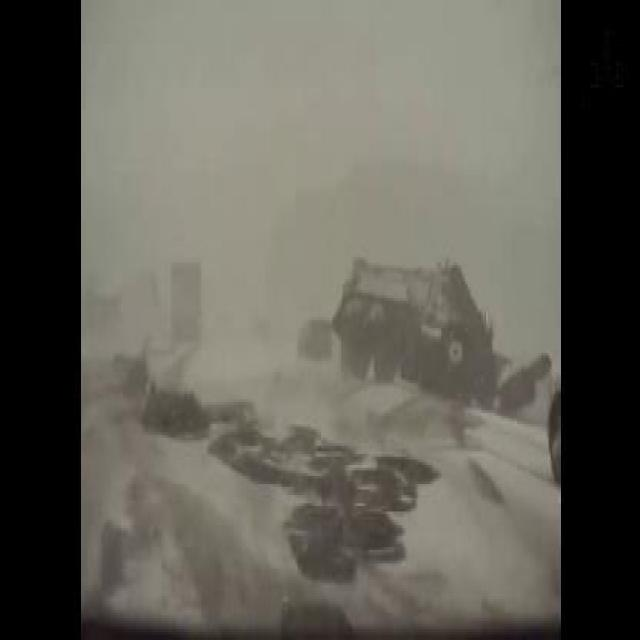accident: (330, 244, 496, 411)
